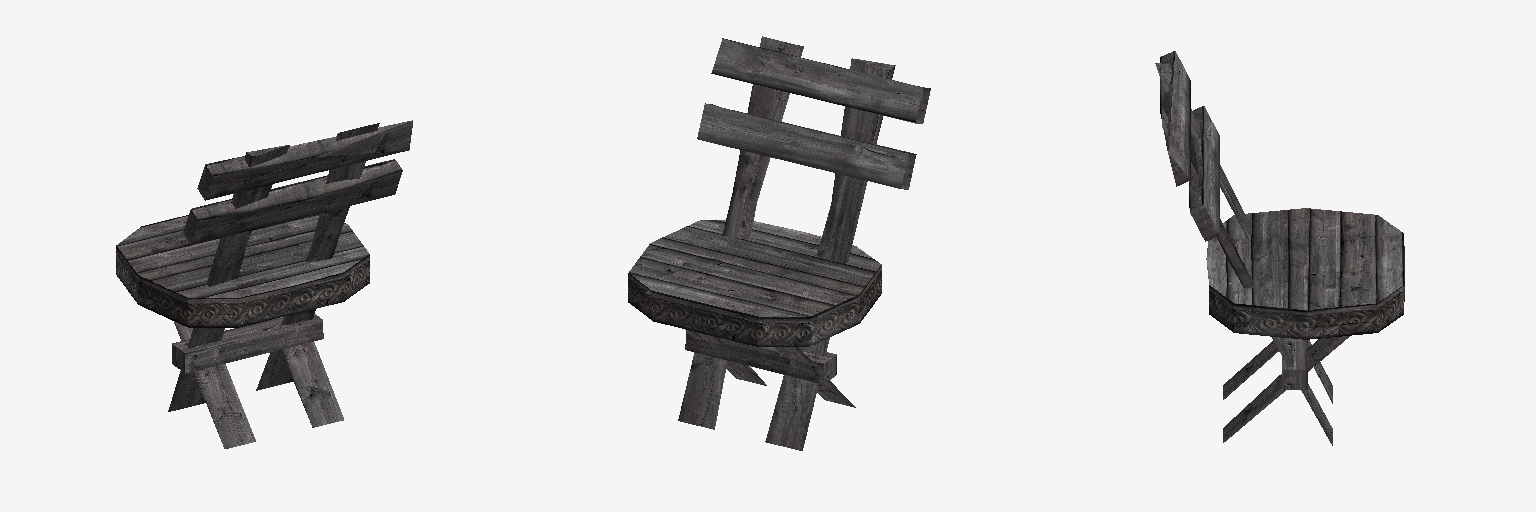
The picture shows the model from 3 angles: view 1: azimuth 30°, elevation 25°; view 2: azimuth 150°, elevation 25°; view 3: azimuth 270°, elevation 25°; orthographic projection.
Parts seen in each view (by area): view 1: Default_Layer; view 2: Default_Layer; view 3: Default_Layer.
Boxes of the visible parts, box(x1,y1,x2,y2) form: Default_Layer: box(116, 120, 412, 448); Default_Layer: box(628, 36, 930, 450); Default_Layer: box(1155, 51, 1404, 445).
Bounding box in the file's own units: 1.12 × 1.65 × 1.16.
1 materials, 1 textured.